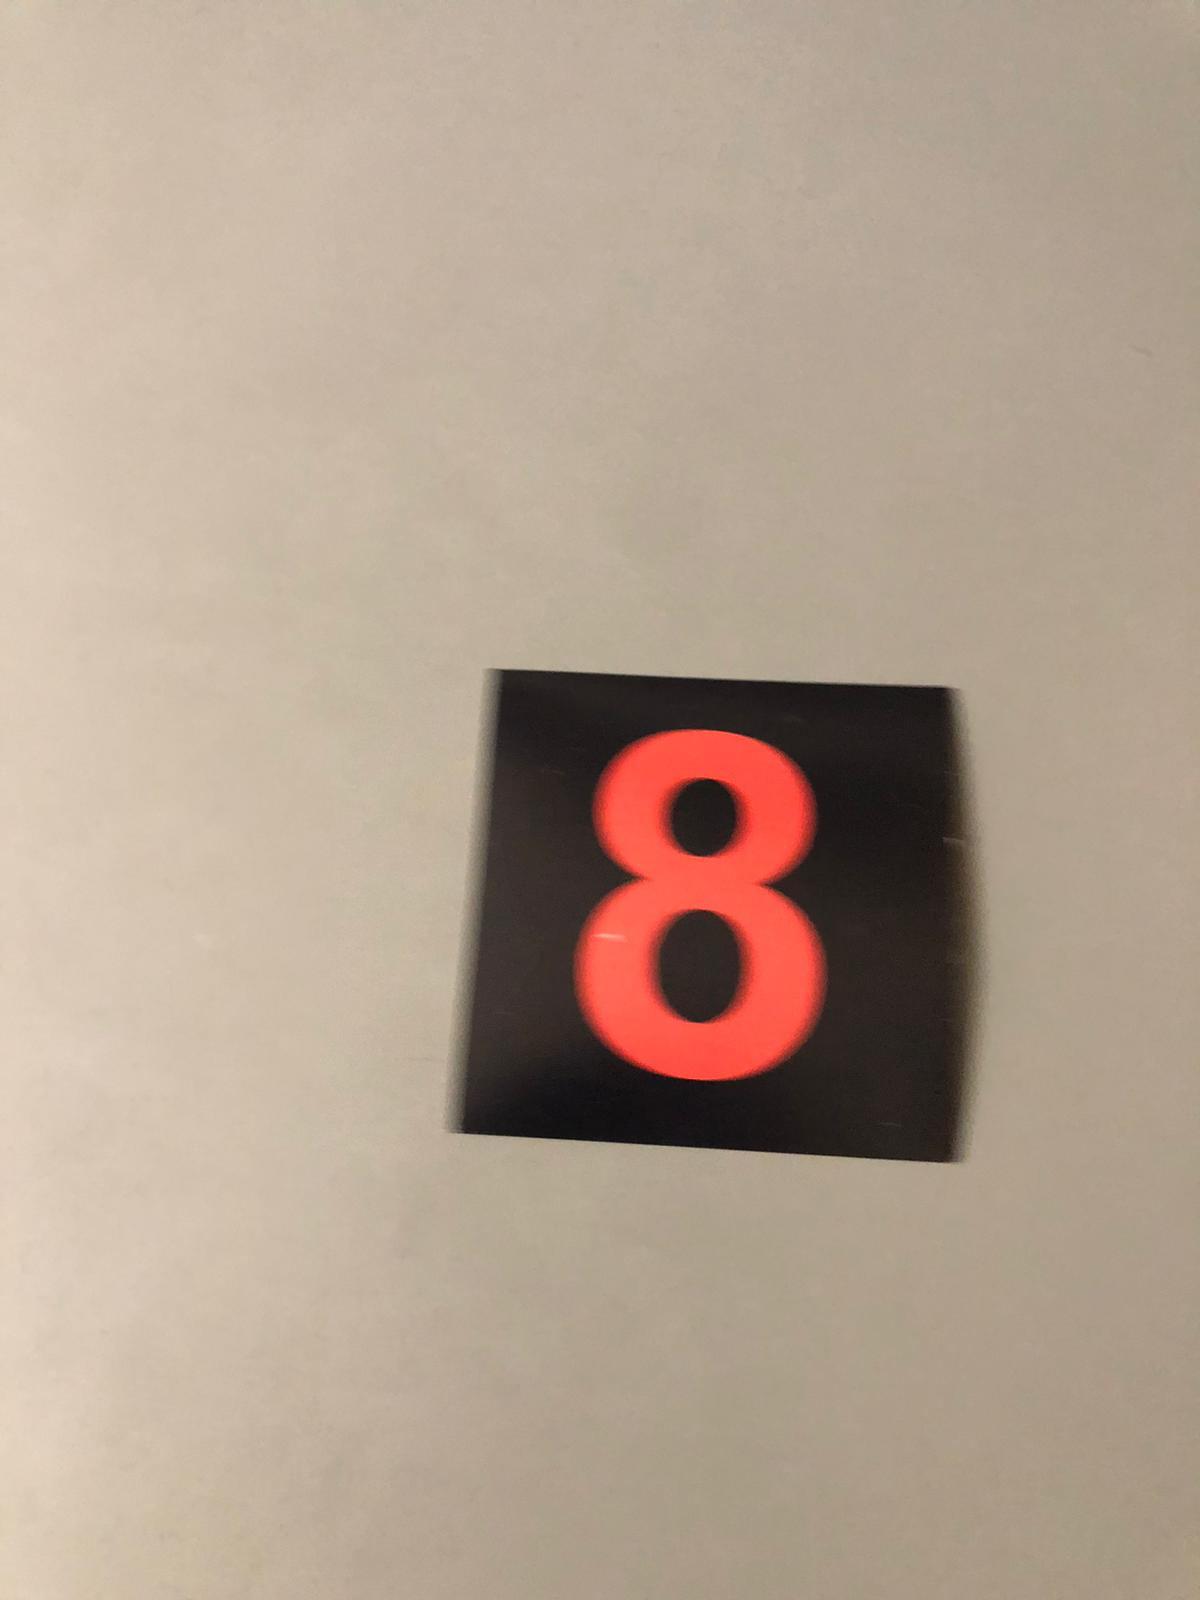Number 8: (507, 684, 932, 1157)
